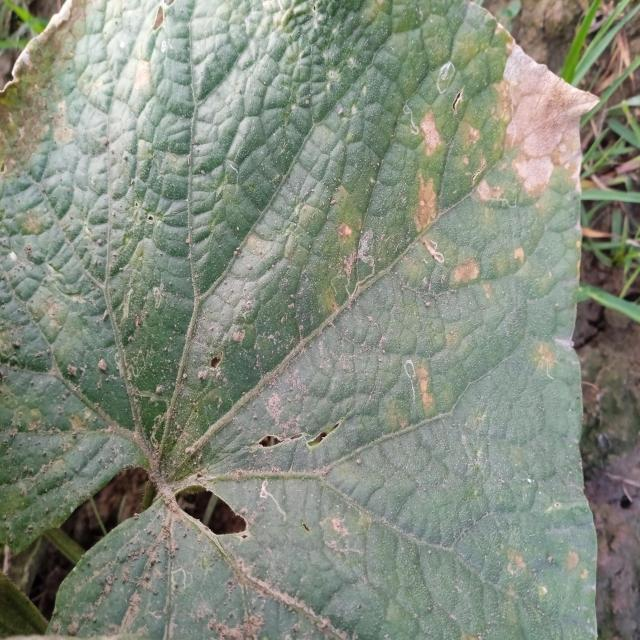cucumber_gummy: (0, 0, 604, 640)
